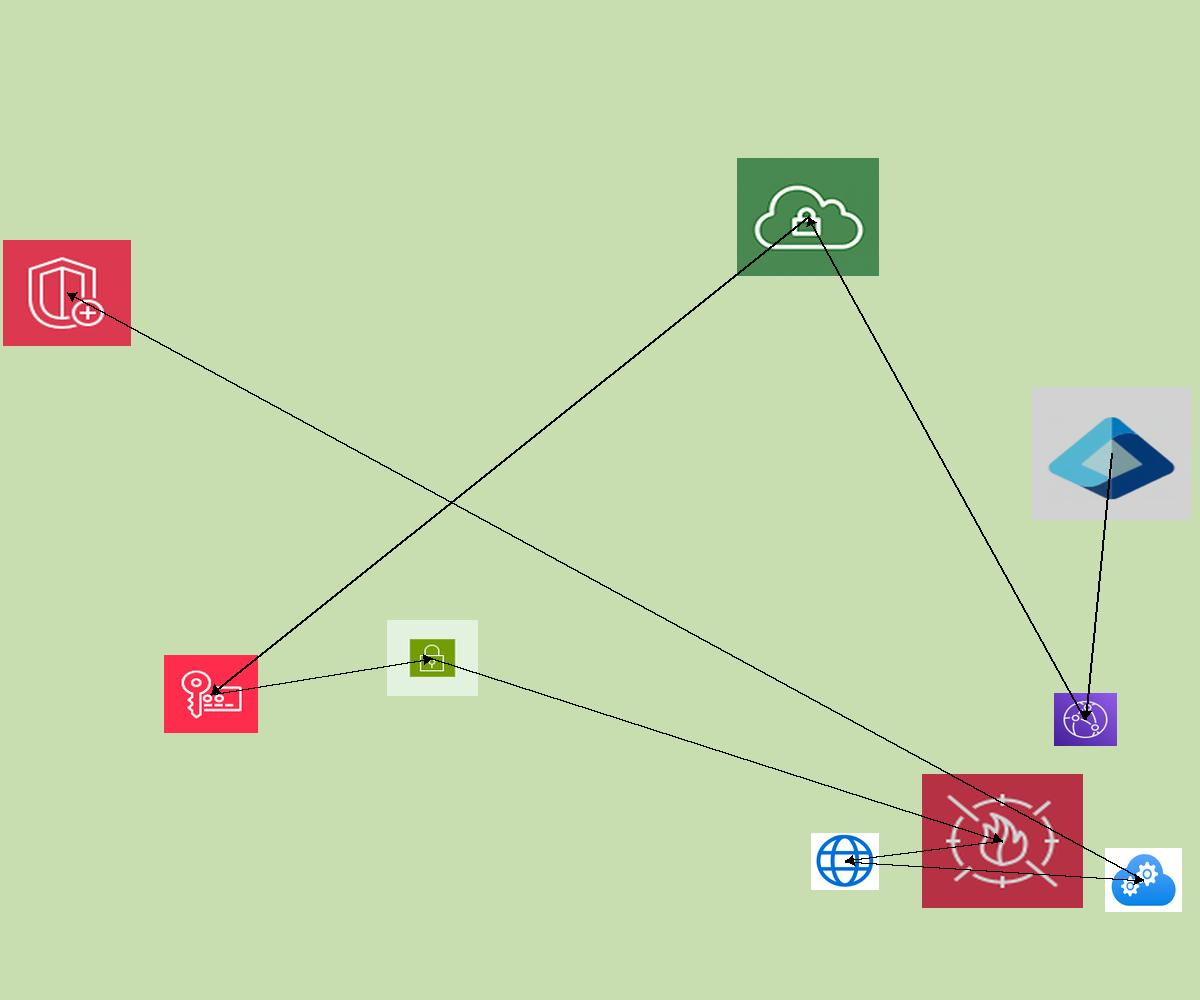AWS-CloudFront: (1054, 693, 1117, 746)
AWS-Key-Management-Service: (164, 655, 258, 733)
AWS-Private_vpc: (737, 158, 879, 276)
AWS-Public-subnet: (387, 620, 478, 696)
AWS-Shield: (3, 240, 131, 346)
AWS-WAF: (922, 774, 1083, 908)
Azure_cloud_services: (1105, 848, 1182, 912)
Azure_http: (811, 833, 879, 890)
Azure_microsoft_entra: (1032, 387, 1191, 520)
